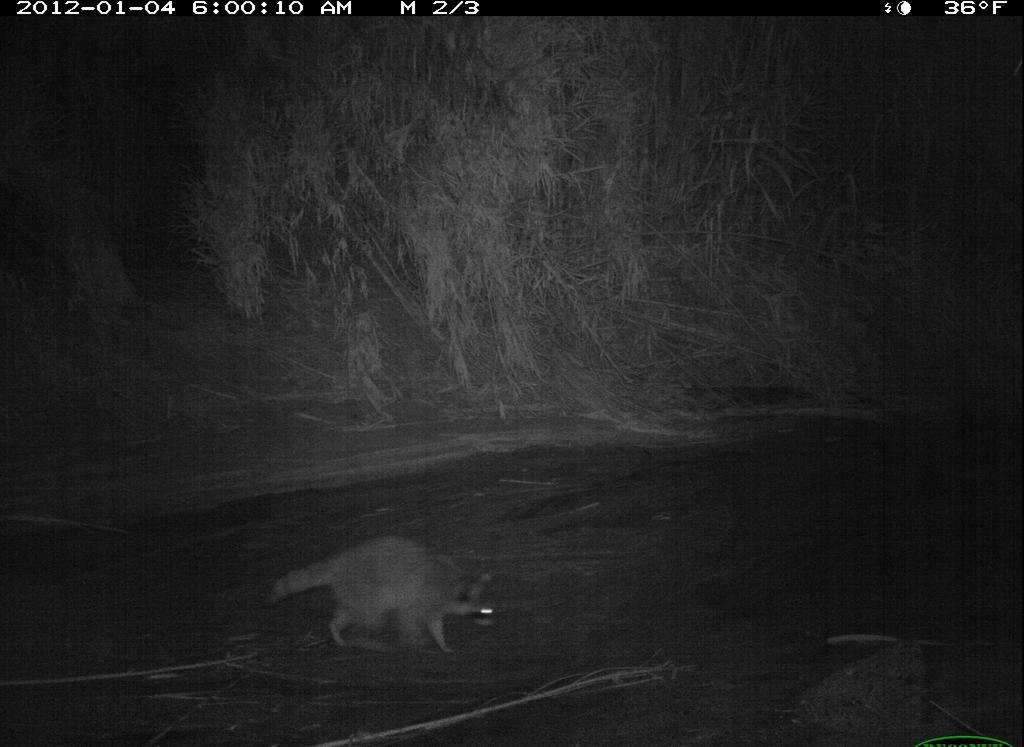raccoon: (255, 528, 510, 664)
